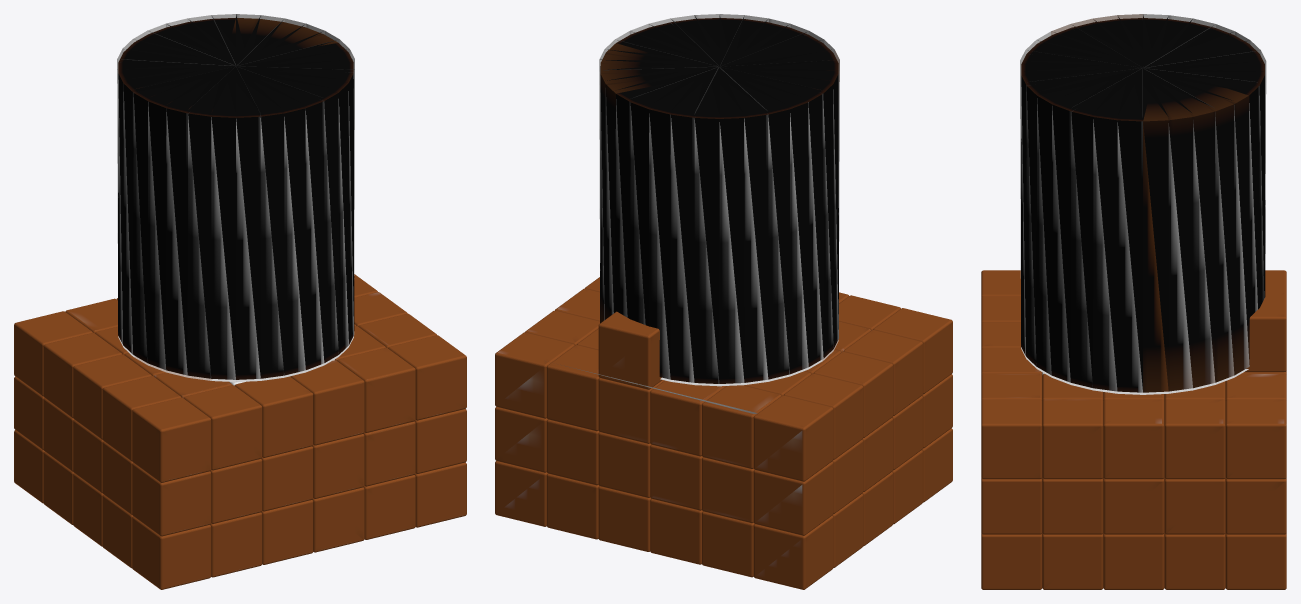
3 views of the same model, side by side, from view 1: azimuth 30°, elevation 25°; view 2: azimuth 150°, elevation 25°; view 3: azimuth 270°, elevation 25° (orthographic). The views are drawn at different scales.
Visible parts, largest first — view 1: algeomath (2); view 2: algeomath (2); view 3: algeomath (2).
Boxes of the visible parts, x1=… form: algeomath (2): x1=14, y1=14, x2=466, y2=589; algeomath (2): x1=495, y1=14, x2=952, y2=589; algeomath (2): x1=981, y1=14, x2=1286, y2=589.
Bounding box in the file's own units: 0.2231 × 0.3 × 0.1859.
Materials: 1 (1 with a texture image).
